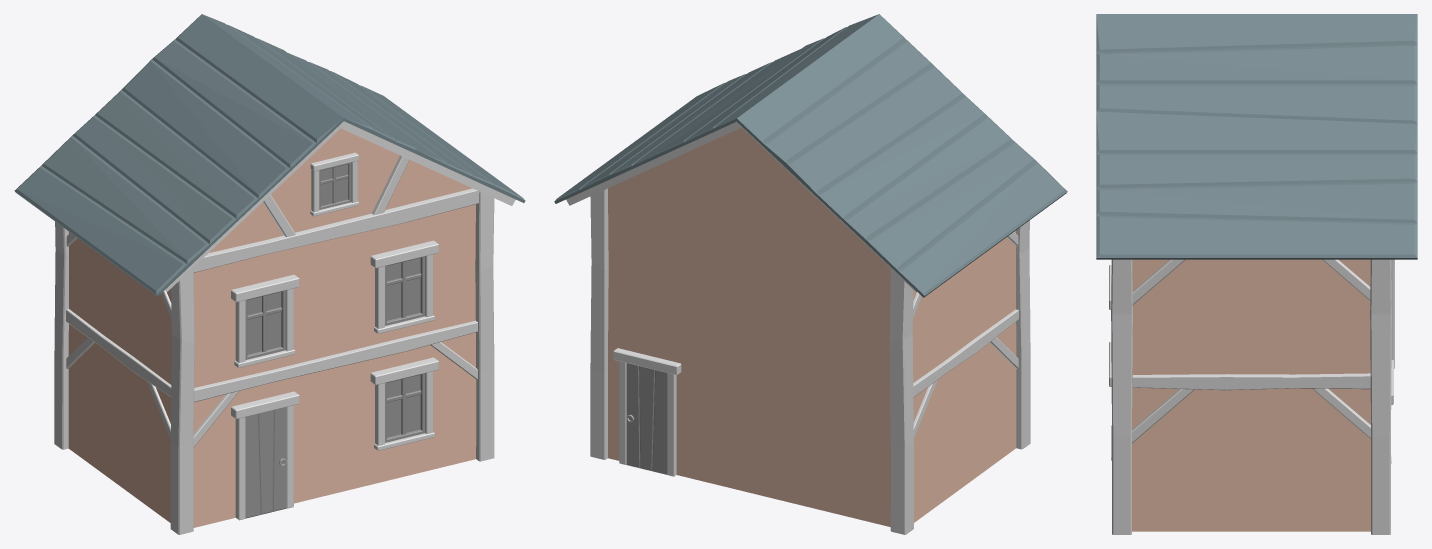
File: fp_estate_master.glb
The picture shows the model from 3 angles, left to right: view 1: azimuth 30°, elevation 25°; view 2: azimuth 150°, elevation 25°; view 3: azimuth 270°, elevation 25°; orthographic projection. The views are drawn at different scales.
Bounding box in the file's own units: 2.2 × 2.19 × 1.47.
